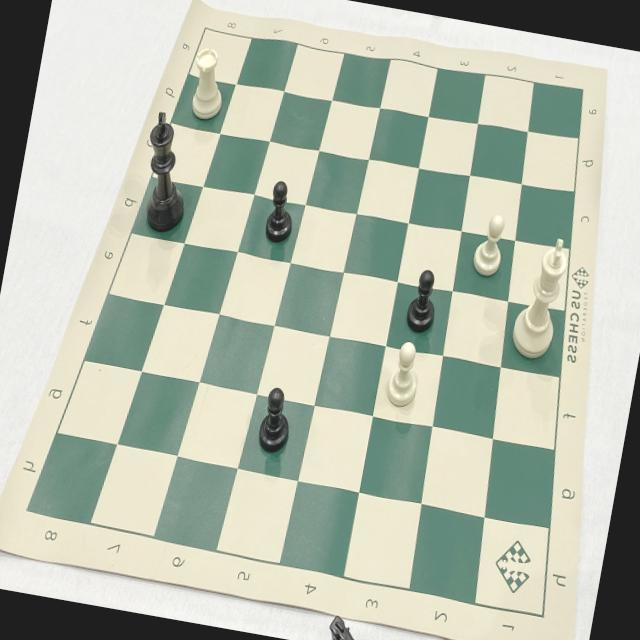black-king: (129, 105, 206, 238)
black-pawn: (257, 168, 309, 253), (399, 255, 448, 340), (250, 379, 298, 458)
white-king: (498, 224, 584, 370)
white-pawn: (379, 331, 431, 416), (462, 205, 514, 288)
white-rook: (182, 34, 240, 128)
